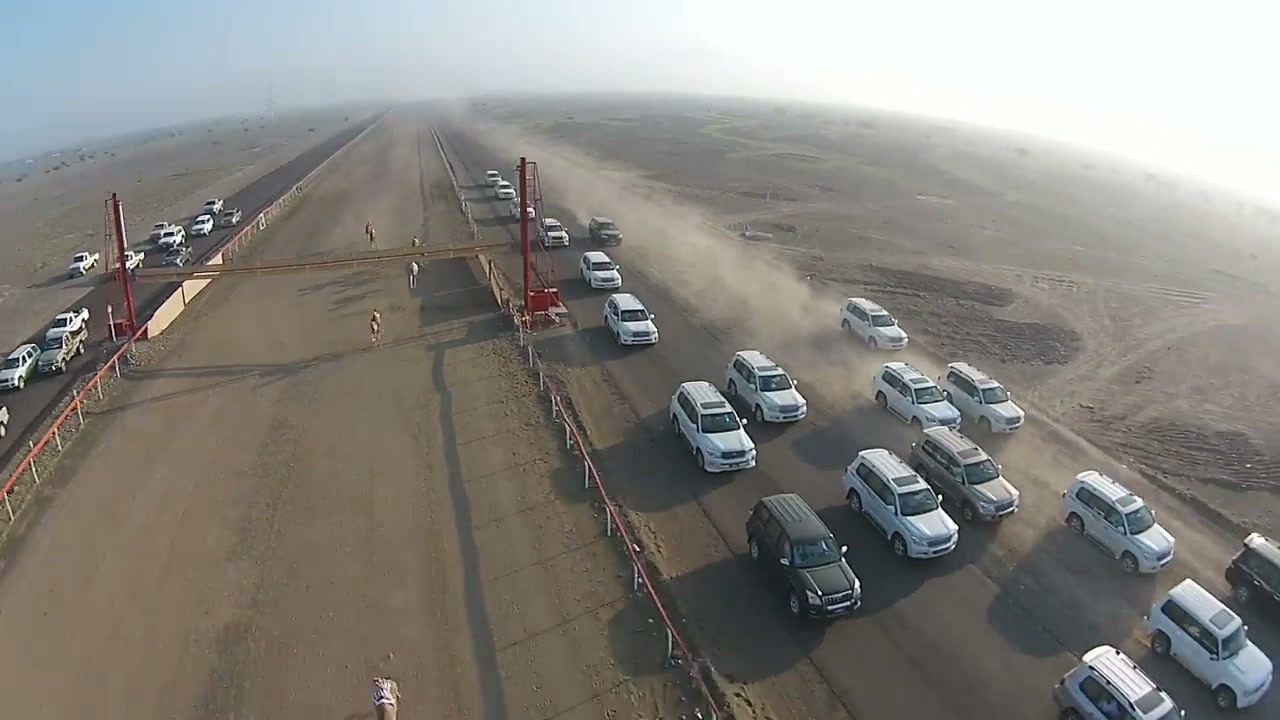animal_footprint: (491, 333, 671, 719)
